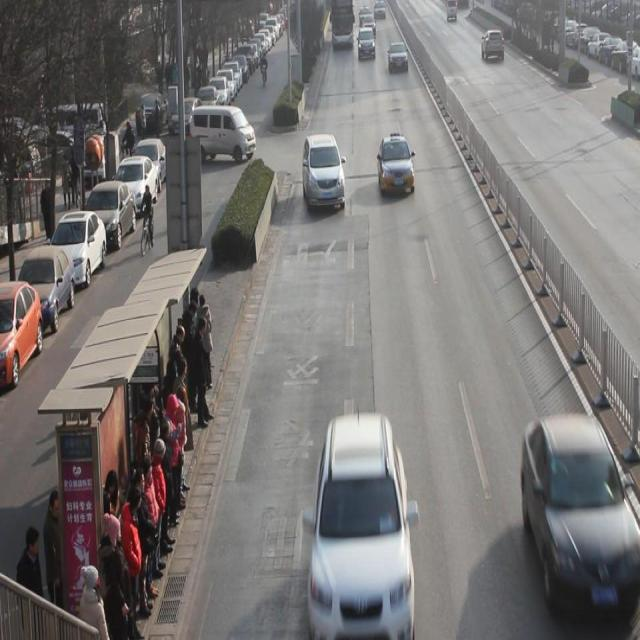car: (307, 417, 416, 640), (522, 418, 640, 608), (303, 135, 346, 213), (378, 136, 416, 198), (482, 31, 505, 64), (388, 42, 409, 74)
